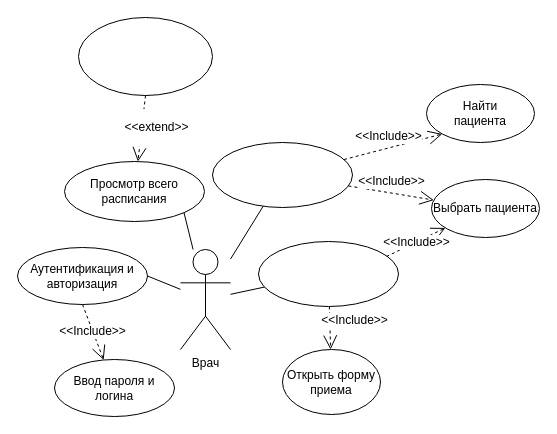
This 557x434 diagram has some shape labels left out. Here are the shapes that lost their labels. From the top down, the centre of each, then its label:
pixel 145 56: Просмотреть медицинскую запись приема пациента
pixel 282 175: Просмотр списка своих пациентов и поиск
pixel 328 273: Оформление медицинской документации
